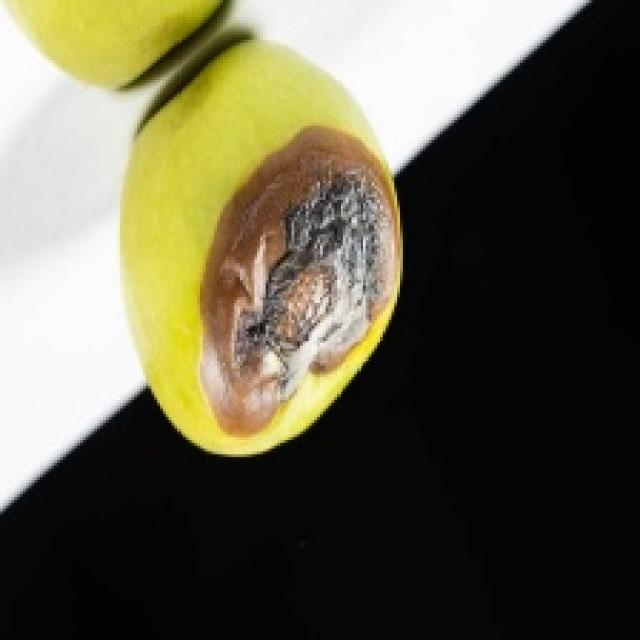rotten_apple: (127, 42, 400, 449)
